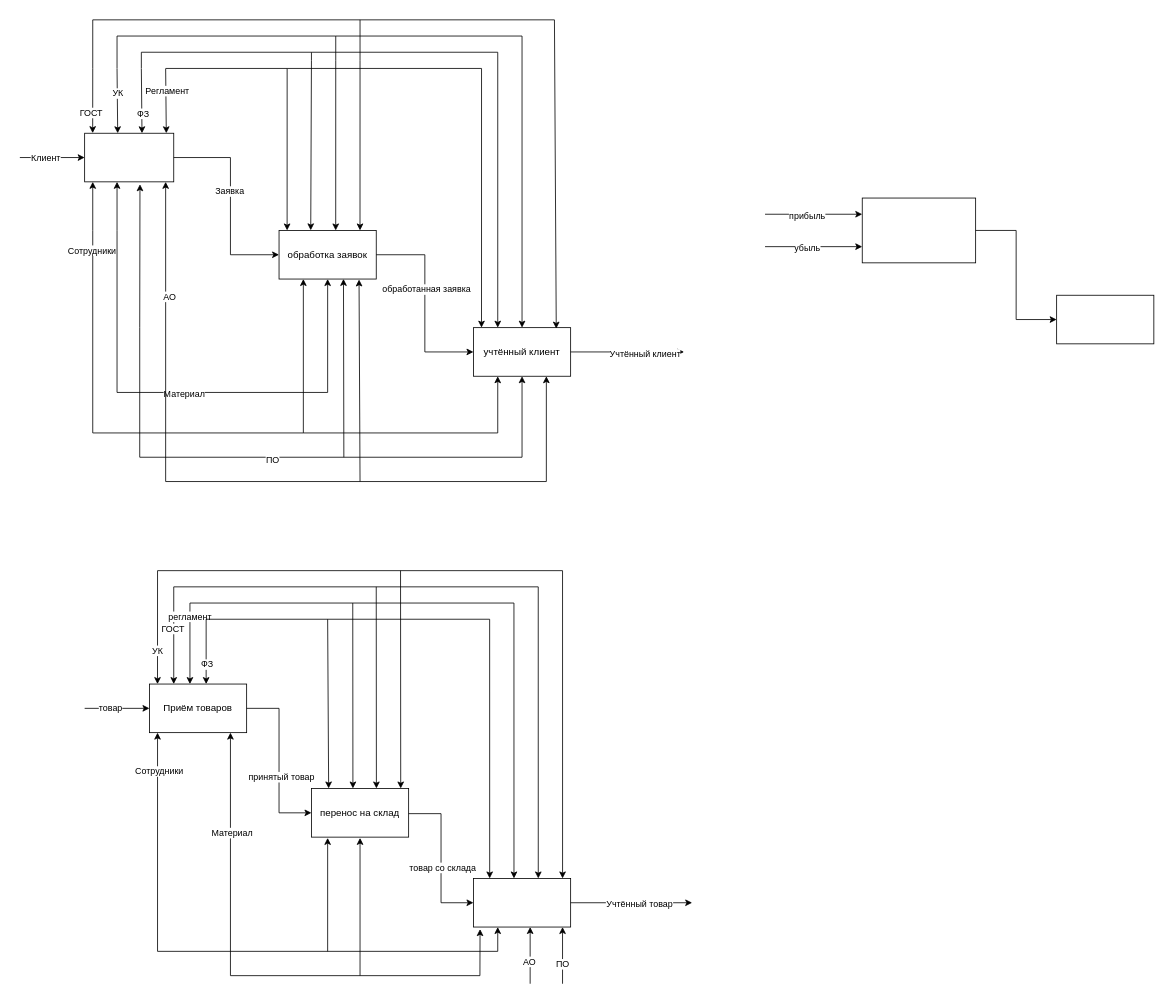
Image size: 1168x1004. Some labels were removed from this diagram. Each missing label, with the centre of its shape:
"приём заявок" belongs at [129,157].
"Учёт товара" belongs at [522,902].
